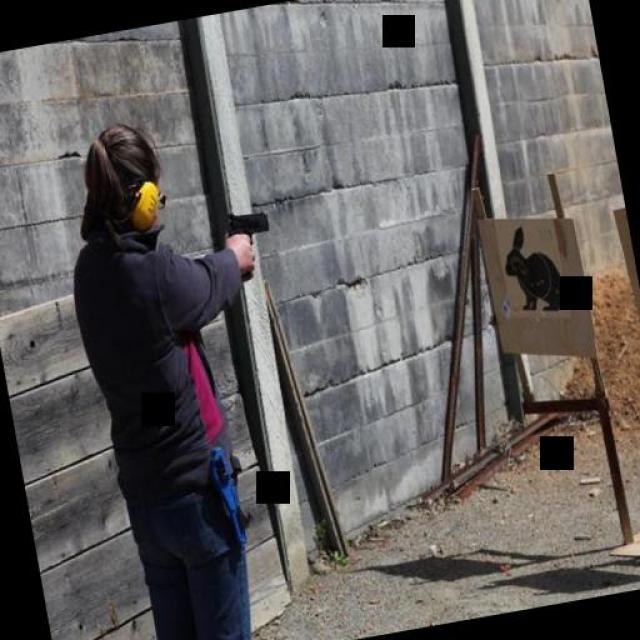gun: (218, 197, 272, 255)
